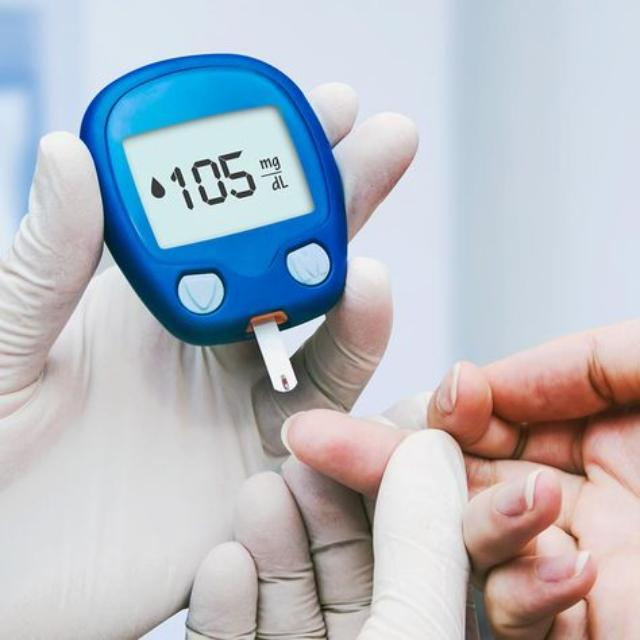Glucose-Meter: (80, 55, 346, 391)
